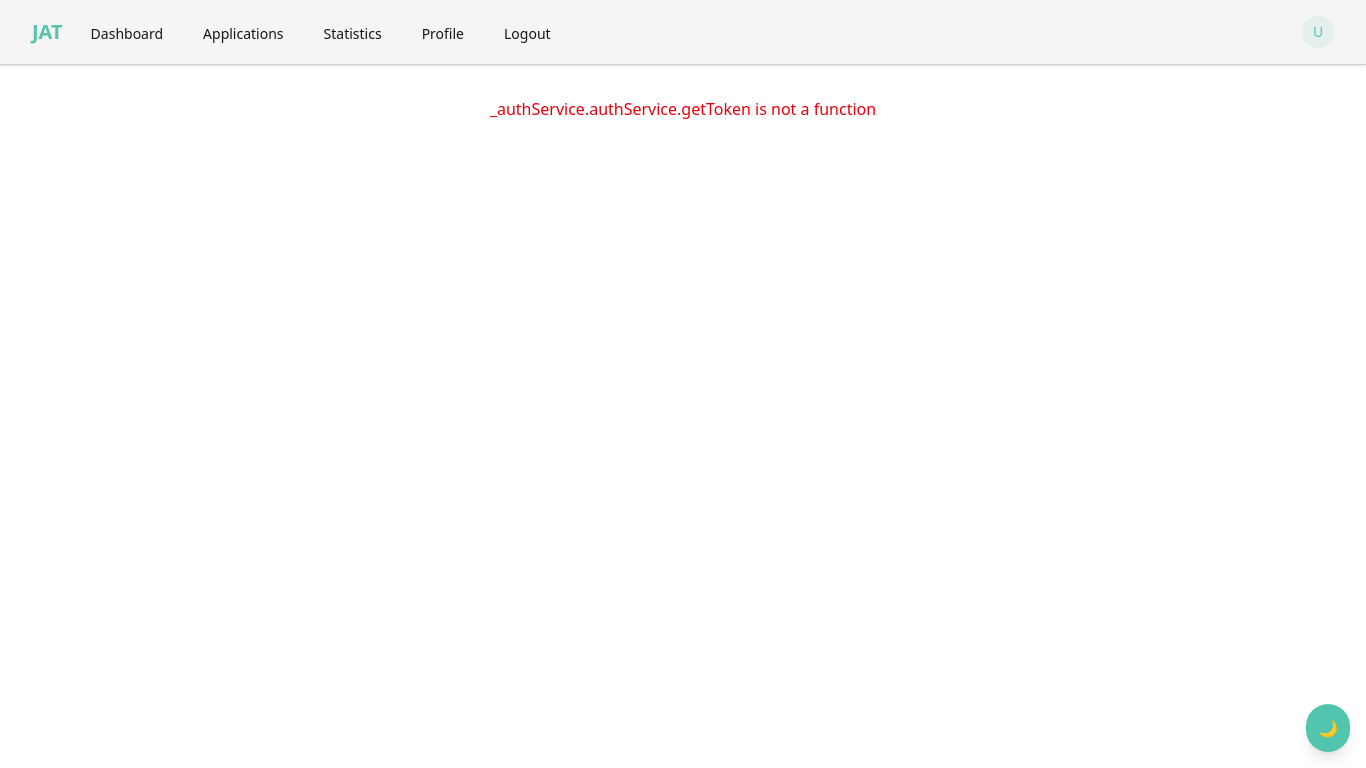
it: App Component › Theme functionality › should toggle theme when theme button is clicked
The width and height of the screenshot is (1366, 768).
# Click to toggle to dark mode
Click the button named "toggle theme".
click(1328, 728)  # box [1306, 704, 1350, 752]
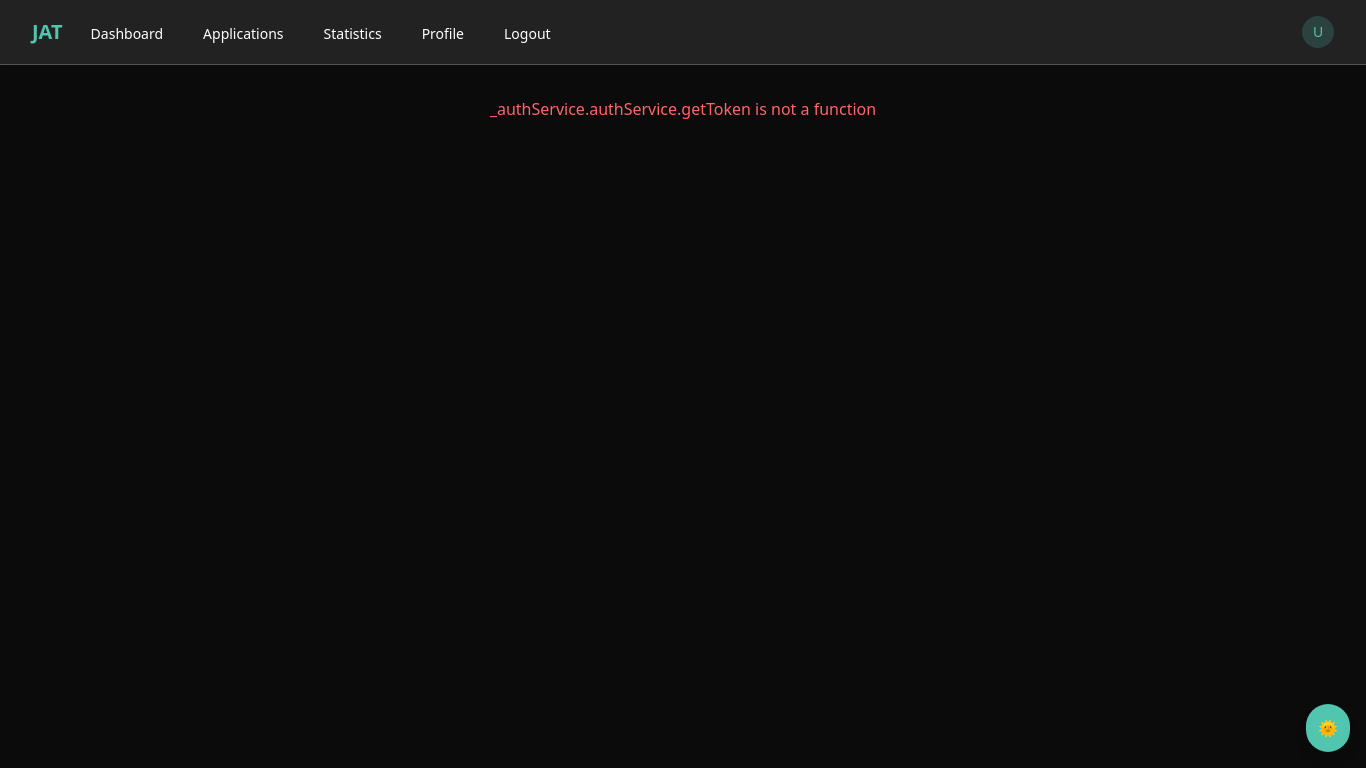
expect the button named "toggle theme" reads "🌞": met
# Click again to toggle back to light mode
Click the button named "toggle theme".
click(1328, 728)  # box [1306, 704, 1350, 752]
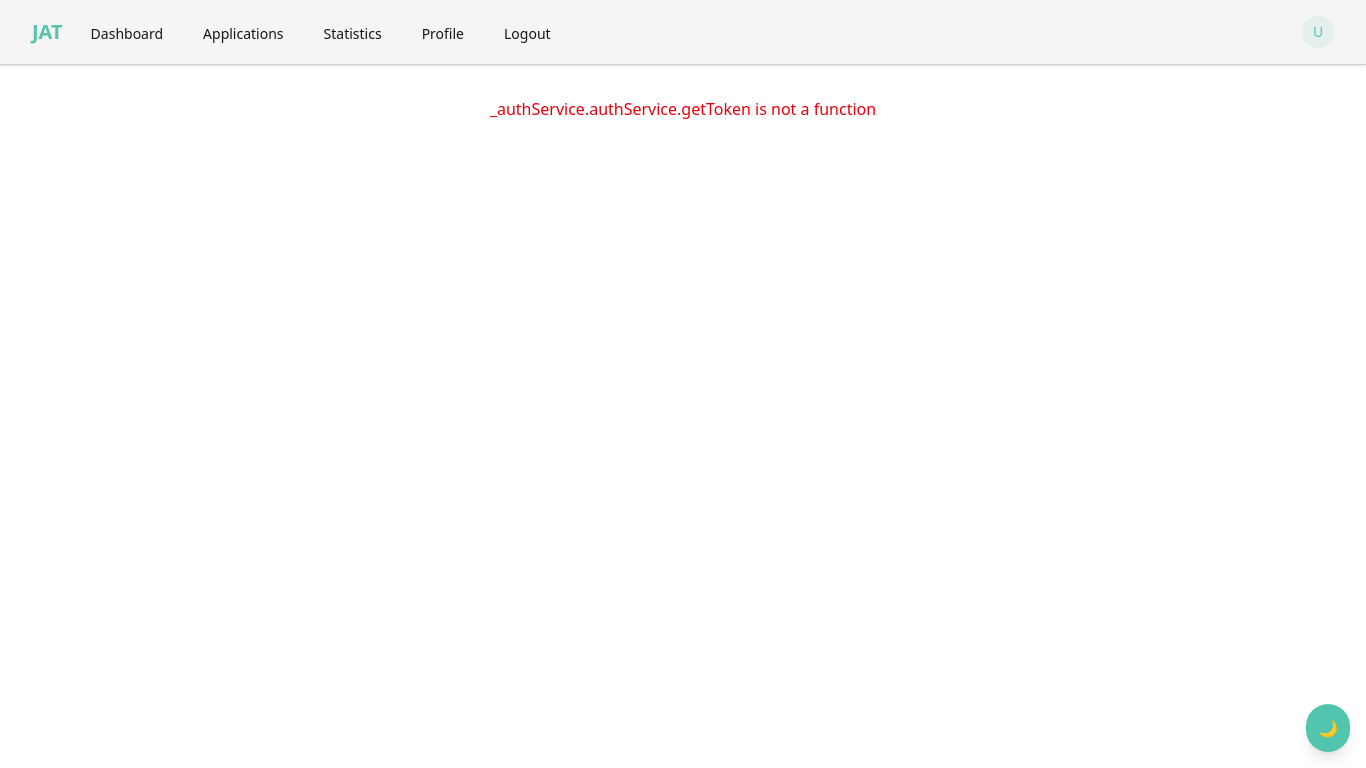
expect the button named "toggle theme" reads "🌙": met, box [1306, 704, 1350, 752]
